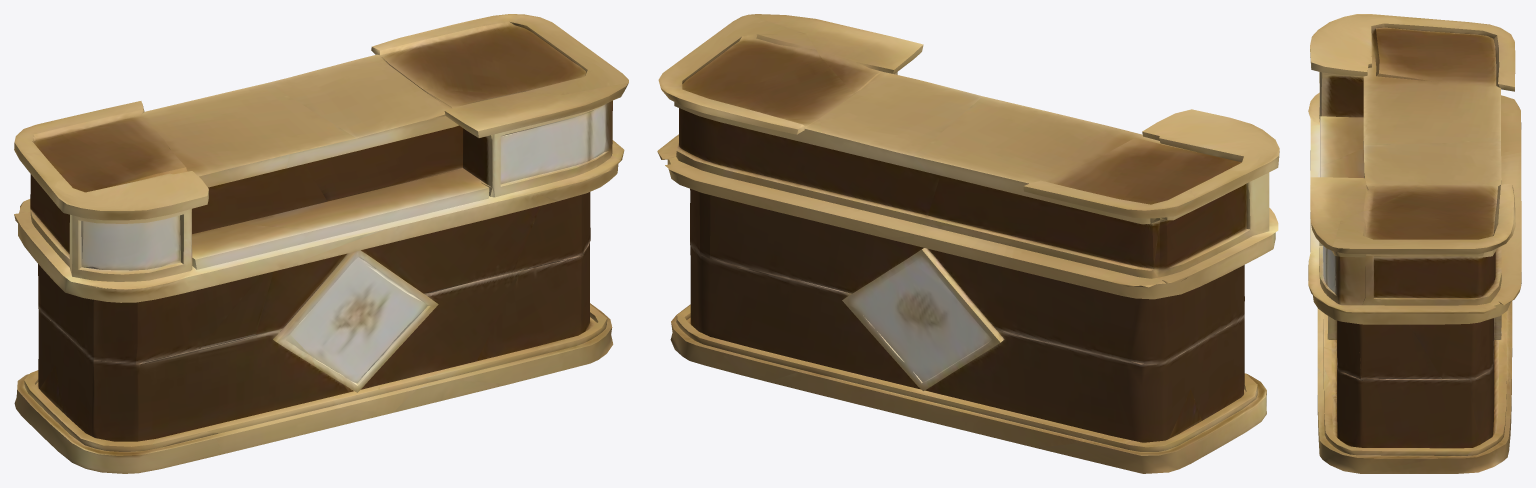
File: receptionDesk.glb
3 views of the same model, side by side, from view 1: azimuth 30°, elevation 25°; view 2: azimuth 150°, elevation 25°; view 3: azimuth 270°, elevation 25° (orthographic). The views are drawn at different scales.
Parts seen in each view (by area): view 1: model; view 2: model; view 3: model.
Part boxes in pixels (x1,y1,x2,y2): model: (14, 14, 628, 473); model: (657, 14, 1279, 473); model: (1308, 14, 1521, 473).
Bounding box in the file's own units: 1.9 × 0.8731 × 0.7338.
1 material, 1 textured.
